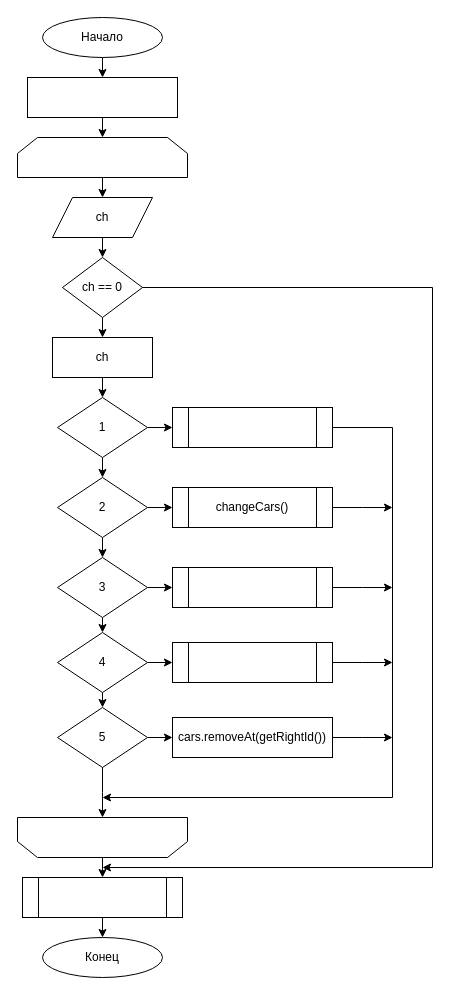
Image size: 458x995. Some labels were removed from this diagram. The shapes that lost their labels are listed below. From the top down, each one's centre as x and y in pixels, then its label:
[102,97]: cars = loadFromFile("data.txt")
[102,157]: true
[252,427]: carsToConsole()
[252,587]: testDriveAdder()
[252,662]: requestCars()
[102,897]: saveToFile("data.txt")
